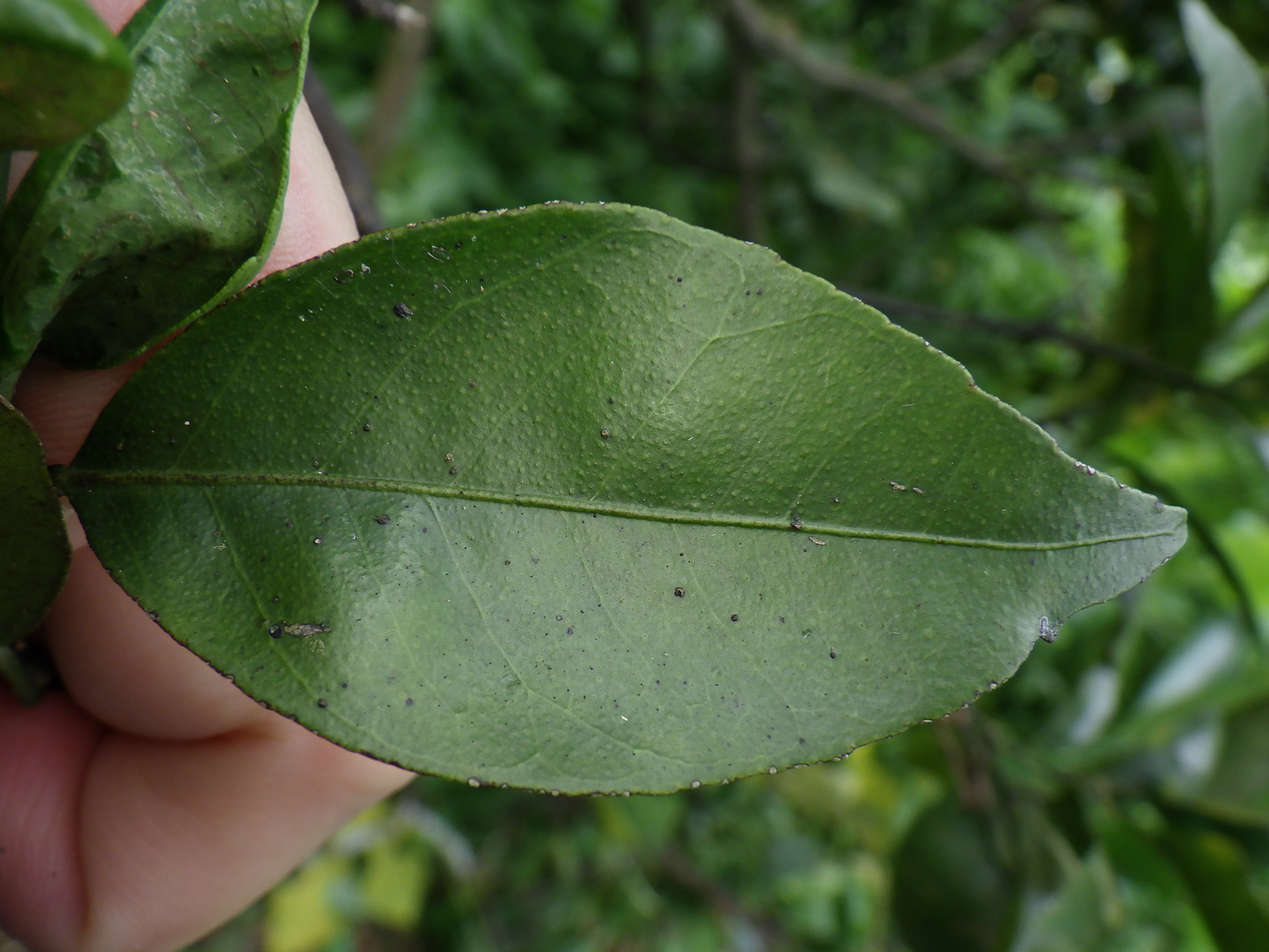Black_Spot: (57, 204, 1185, 793)
